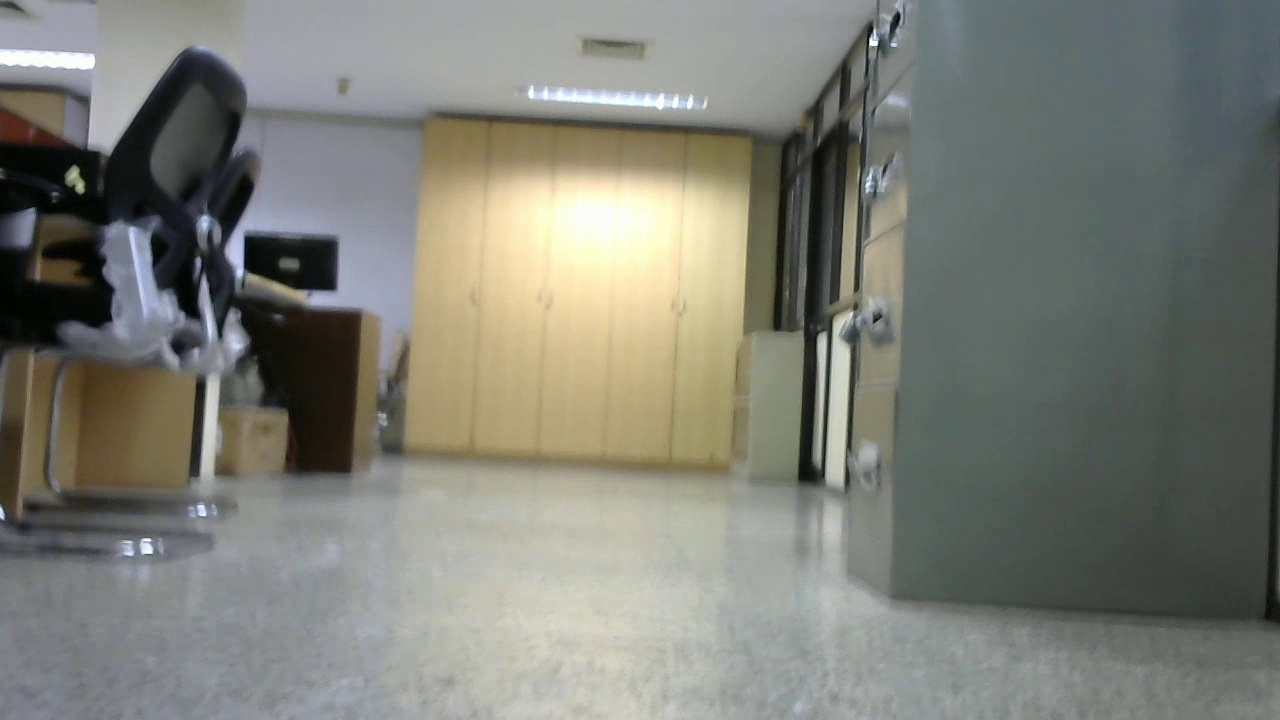chair: (2, 42, 236, 564)
